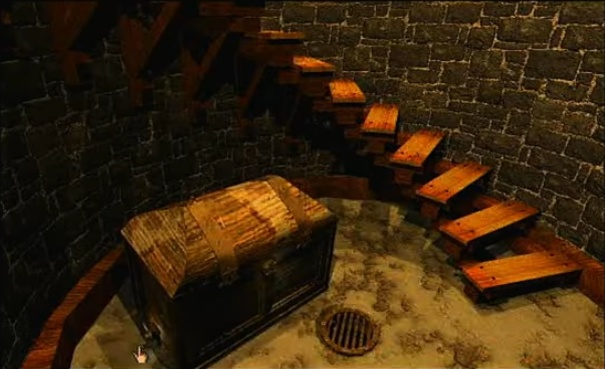Pointer: (131, 344, 151, 364)
